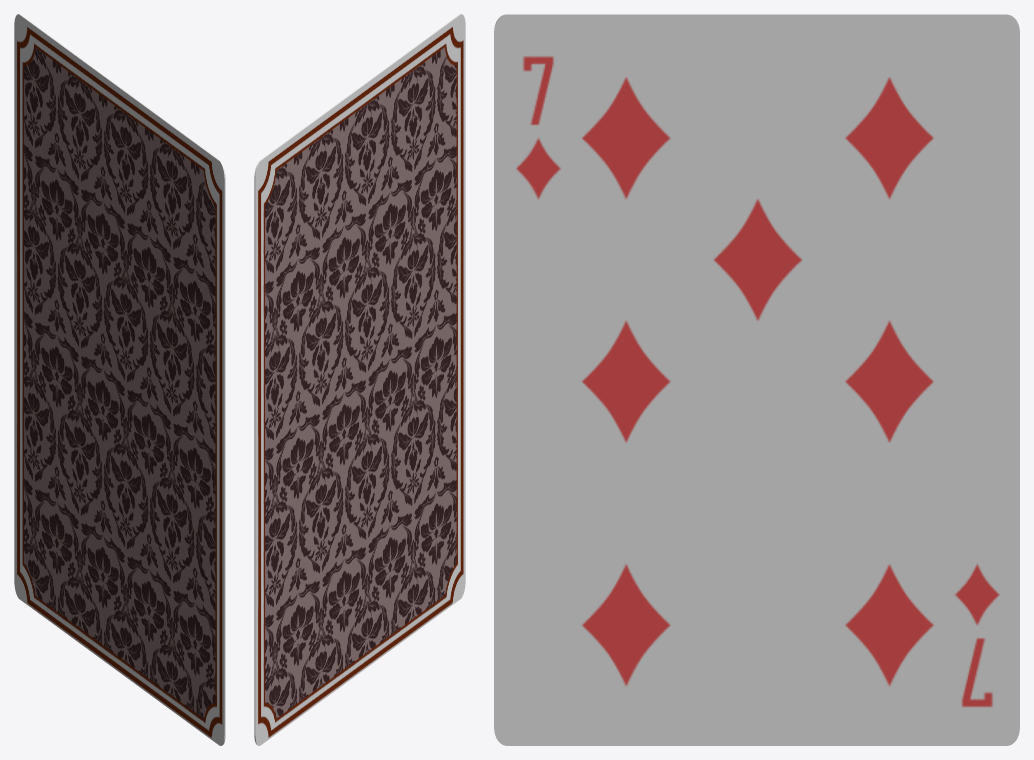
The model's file is diamond7.glb.
The picture shows the model from 3 angles, left to right: view 1: azimuth 30°, elevation 25°; view 2: azimuth 150°, elevation 25°; view 3: azimuth 270°, elevation 25°; orthographic projection. The views are drawn at different scales.
Visible parts, largest first — view 1: Cube; view 2: Cube; view 3: Cube.
Part boxes in pixels (left/top/right/bottom): Cube: left=14, top=14, right=225, bottom=745; Cube: left=254, top=14, right=465, bottom=745; Cube: left=494, top=14, right=1019, bottom=745.
Size of the model in its own units: 0.036 by 17.8 by 11.6.
Materials: 1 (1 with a texture image).
